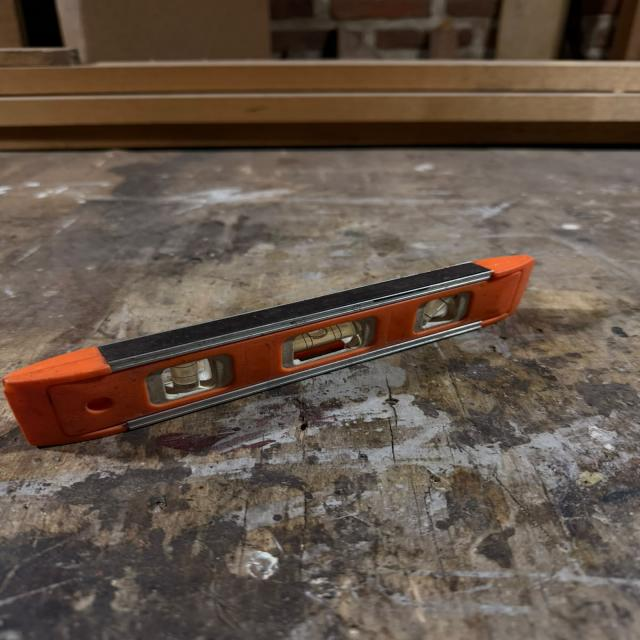Nivel: (5, 176, 632, 546)
